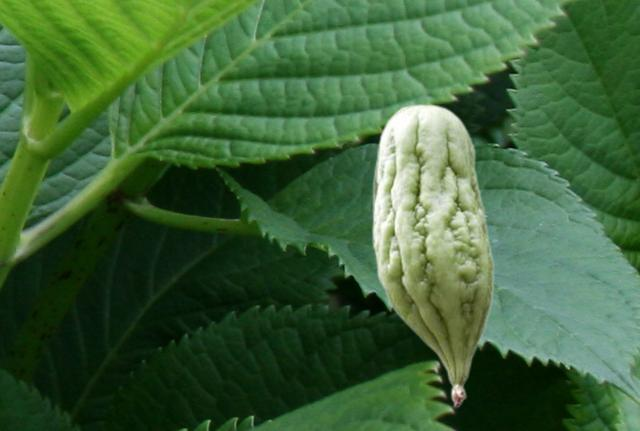ampalaya: (371, 103, 494, 407)
